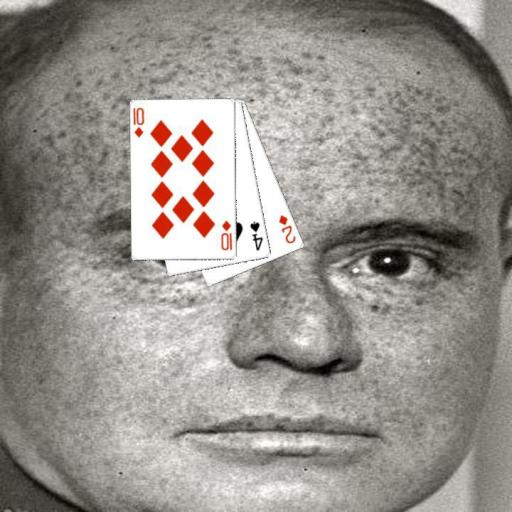10D: (218, 218, 234, 253), (131, 105, 146, 140)
2D: (276, 212, 297, 245)
4S: (247, 219, 265, 253)
